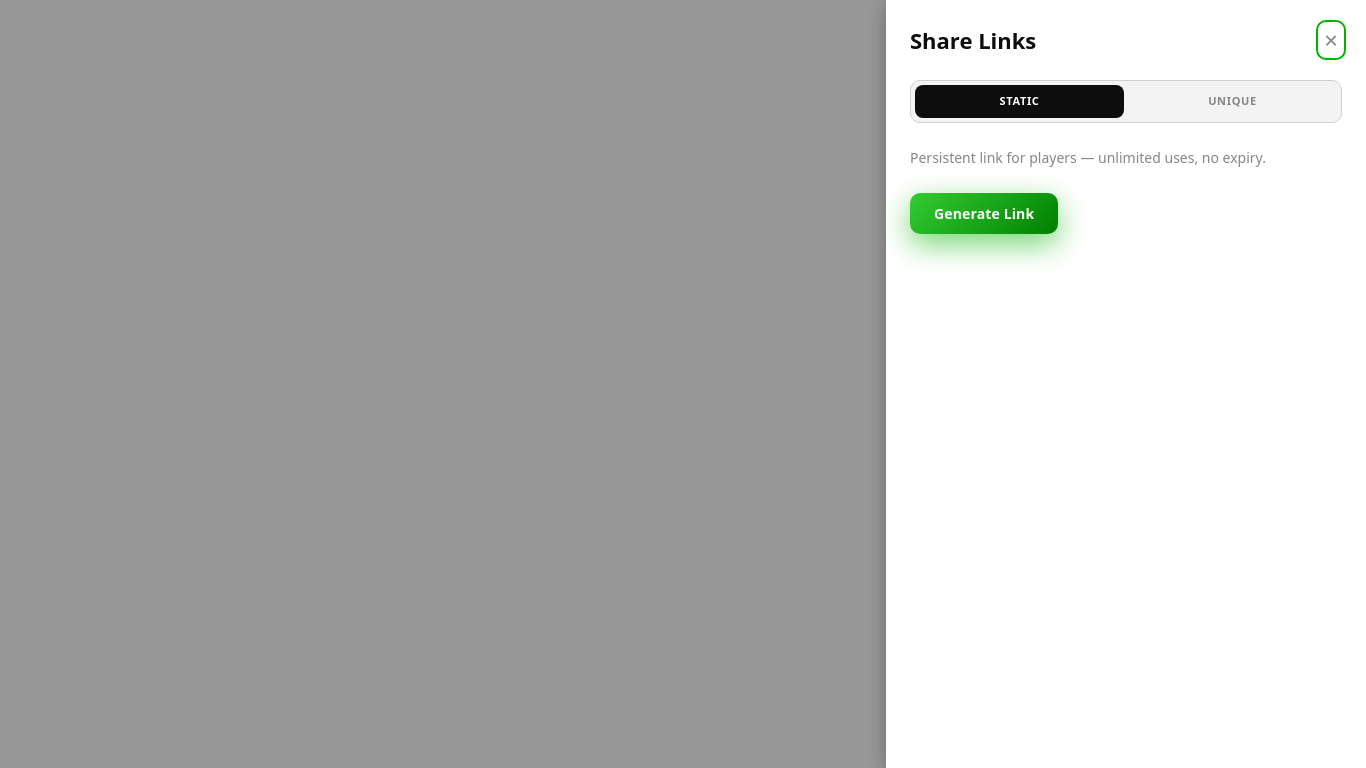
Test case: ShareLinkSheet › shows targetEmail field for UNIQUE type
expect the dialog is shown: met, box [886,0,1365,767]
Note: Switch to UNIQUE
Click the button "UNIQUE": [1232, 101] box [1128,85,1337,118]
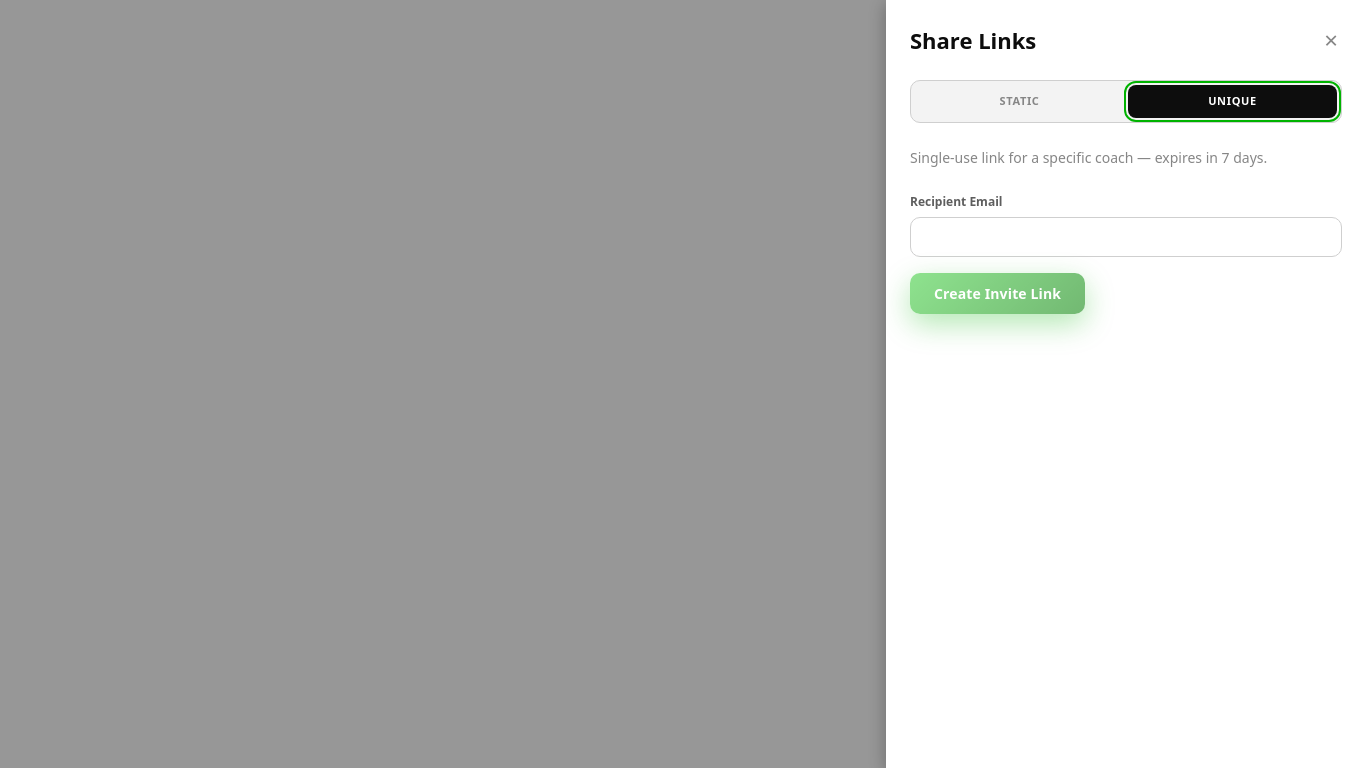
expect the field labelled "Recipient Email" is shown: met, box [910,216,1342,256]
